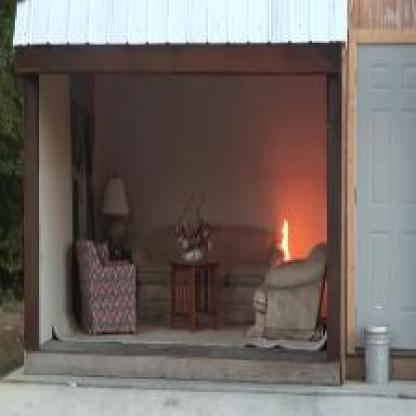fire: (276, 217, 293, 263)
